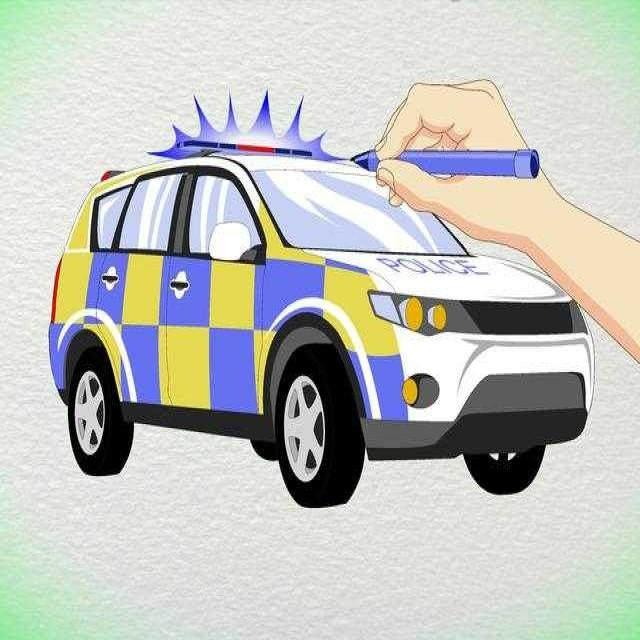firetruck: (37, 121, 611, 551)
